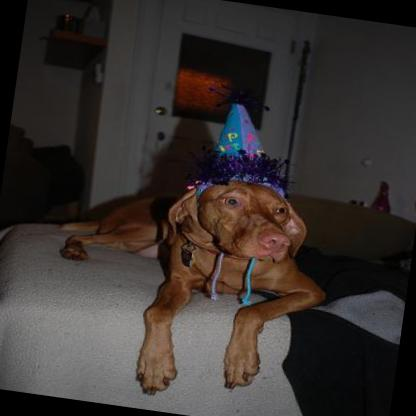vizsla: (29, 75, 346, 416)
